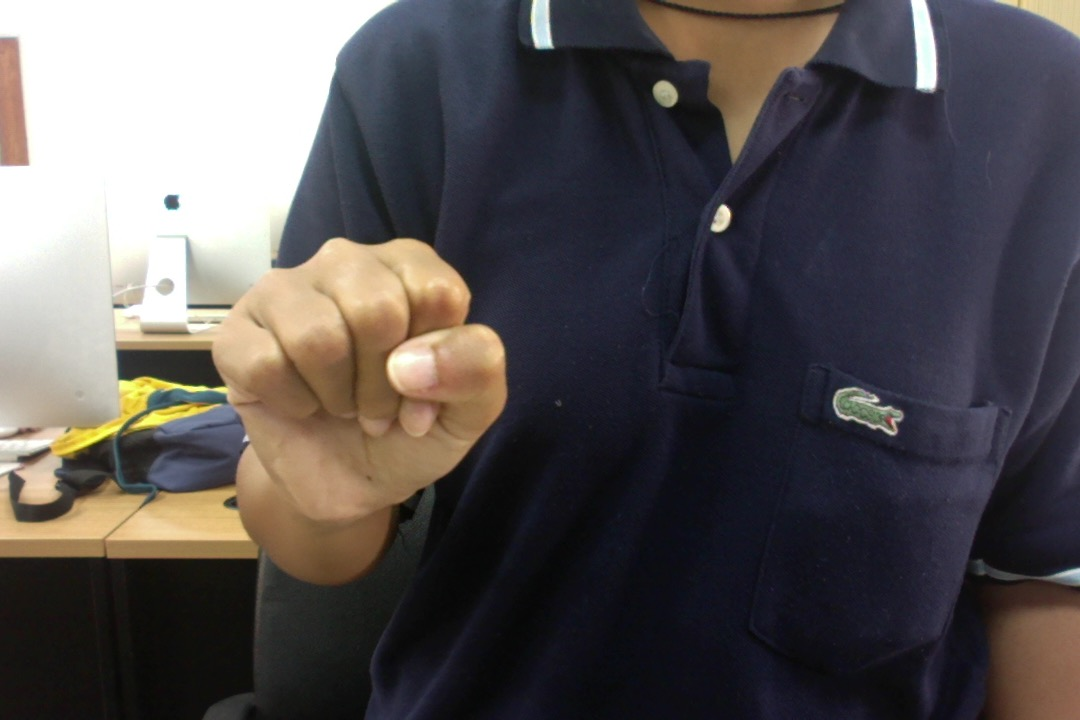sor: (202, 222, 523, 528)
